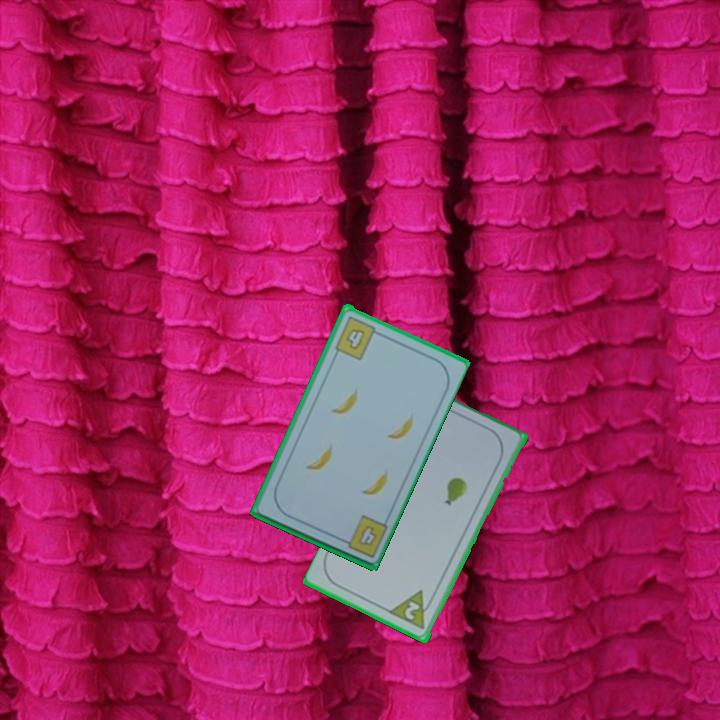2p: (401, 598, 423, 623)
4b: (331, 312, 384, 362), (336, 511, 390, 560)
